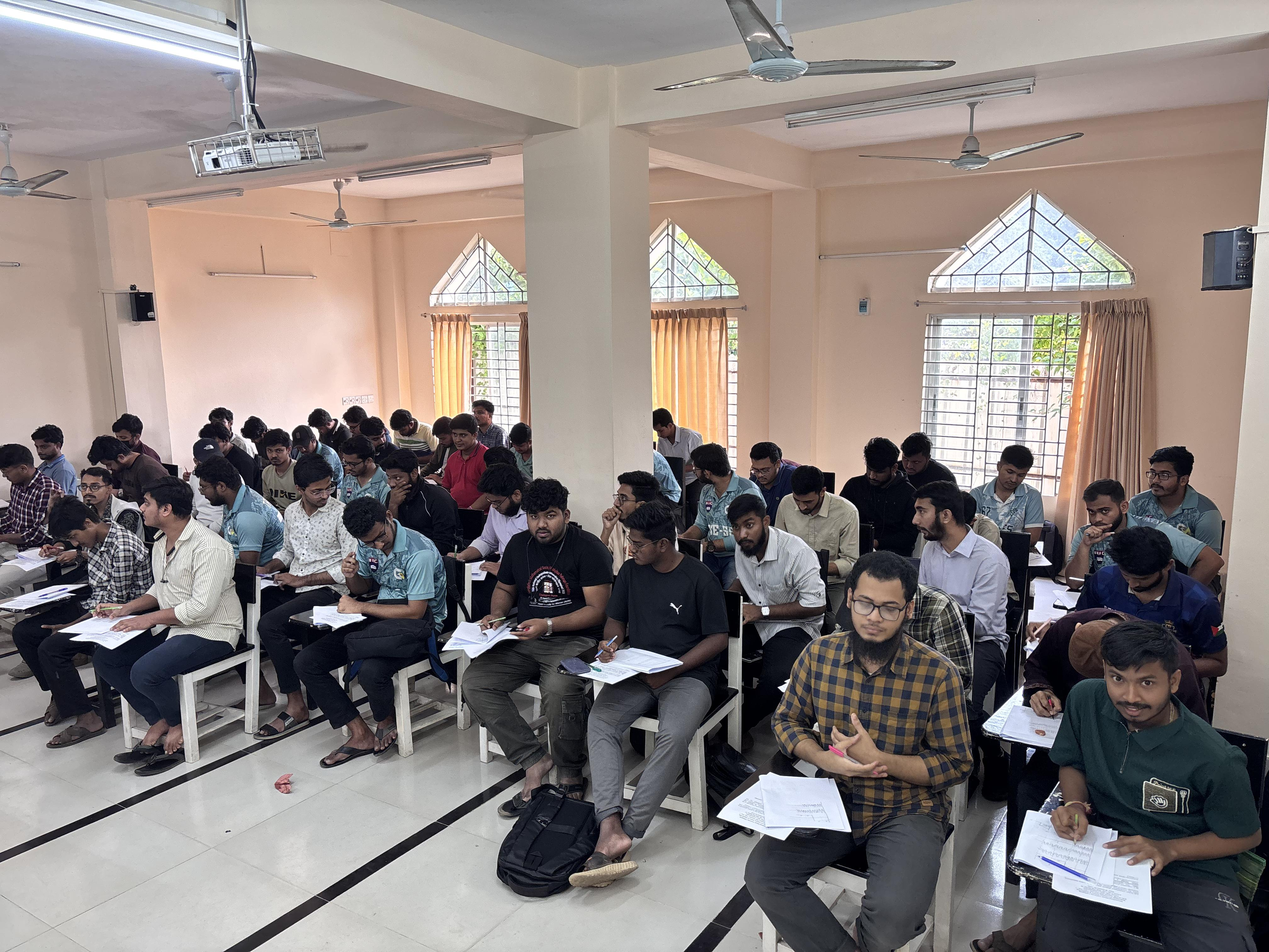copying: (592, 501, 713, 828), (329, 494, 448, 707), (681, 439, 771, 527), (283, 455, 345, 564), (289, 420, 326, 456), (359, 414, 393, 451)
no_cheating: (1023, 612, 1269, 938), (788, 540, 950, 902), (480, 477, 589, 741), (120, 480, 217, 705), (721, 488, 799, 647), (40, 494, 118, 646), (1086, 526, 1210, 611), (191, 456, 275, 549), (1, 437, 50, 565), (1136, 439, 1210, 518), (1061, 469, 1138, 543), (850, 431, 910, 524), (781, 461, 843, 548), (982, 442, 1048, 518), (600, 468, 659, 548), (375, 446, 444, 505), (442, 415, 482, 500), (744, 439, 803, 496), (86, 433, 156, 475), (897, 427, 947, 480), (263, 424, 296, 496), (76, 464, 124, 510), (31, 419, 67, 473), (506, 418, 540, 474), (389, 406, 431, 445), (304, 404, 345, 436), (472, 398, 494, 428)
suspicious_moving: (903, 479, 971, 573)
